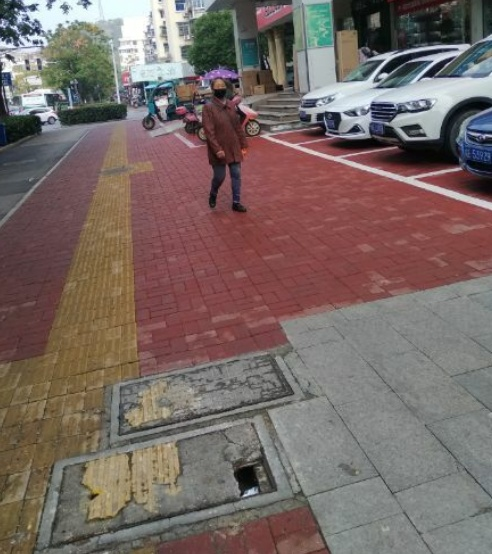broke: (29, 413, 298, 554)
good: (109, 348, 304, 442)
